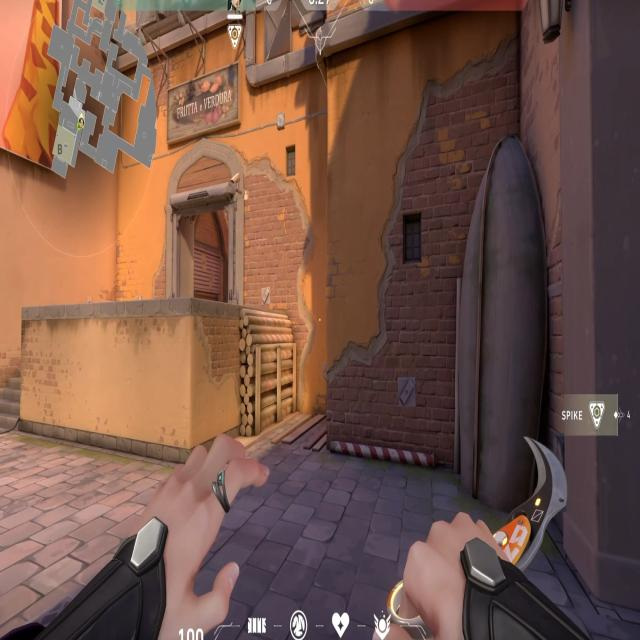B_Cubby: (177, 282, 344, 467)
